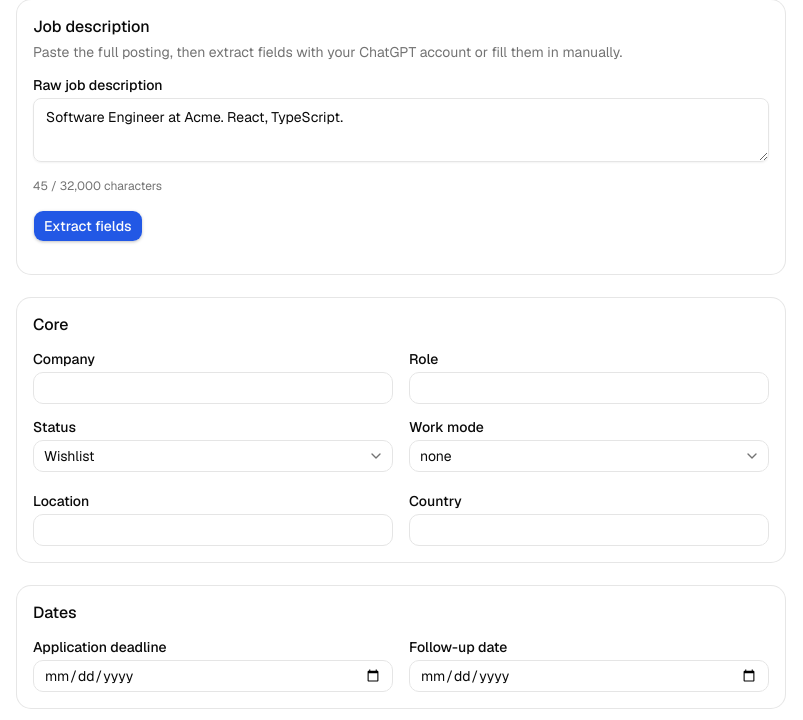
Test case: ApplicationForm › lets the user paste a posting and extract editable fields
Later steps or results of the test are not shown.
Click the button "Extract fields": (88, 226) [33, 210, 143, 242]
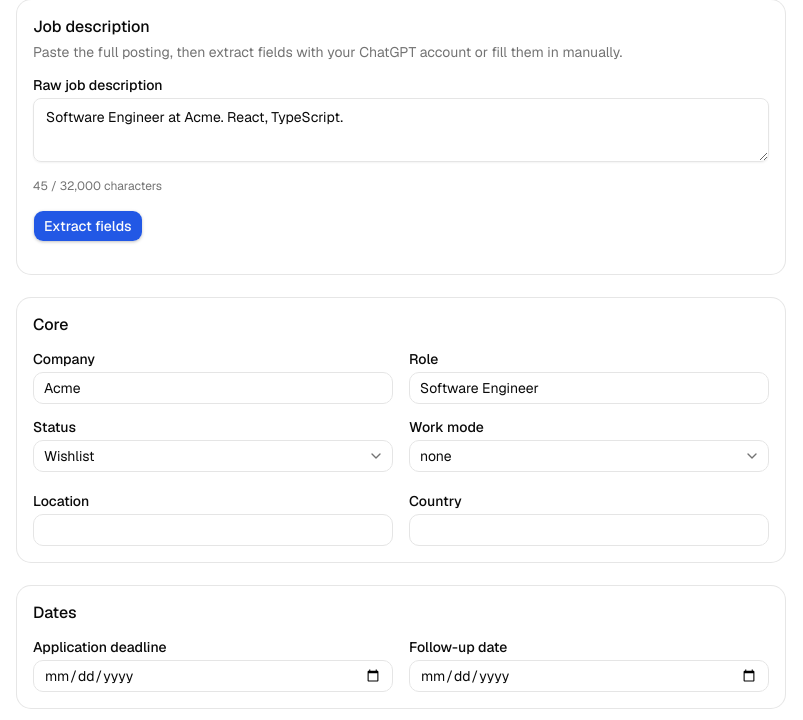
Expected: the field labelled "Company" holds "Acme", [33, 372, 393, 404]
